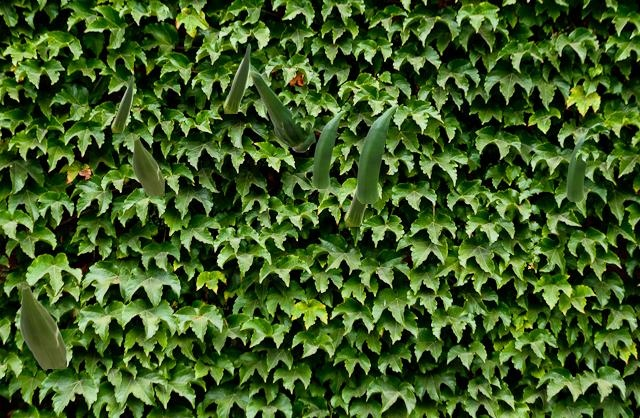okra: (249, 70, 314, 151), (356, 104, 397, 202), (19, 286, 65, 367), (566, 123, 598, 200), (312, 110, 344, 187), (223, 43, 249, 112), (132, 138, 163, 194), (111, 75, 132, 131), (344, 187, 368, 225)
